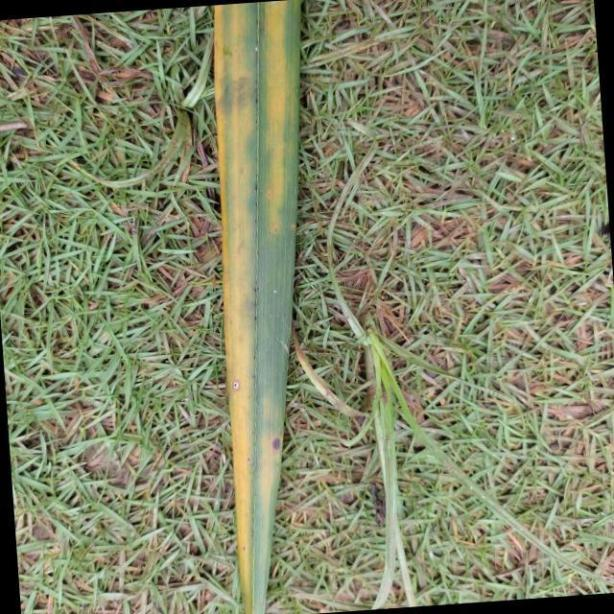Megnesium: (216, 0, 300, 614)
